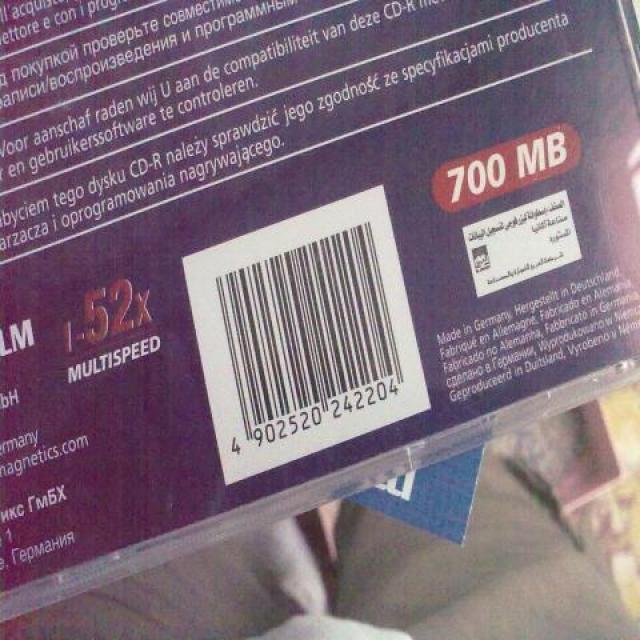Barcode: (181, 183, 432, 486)
